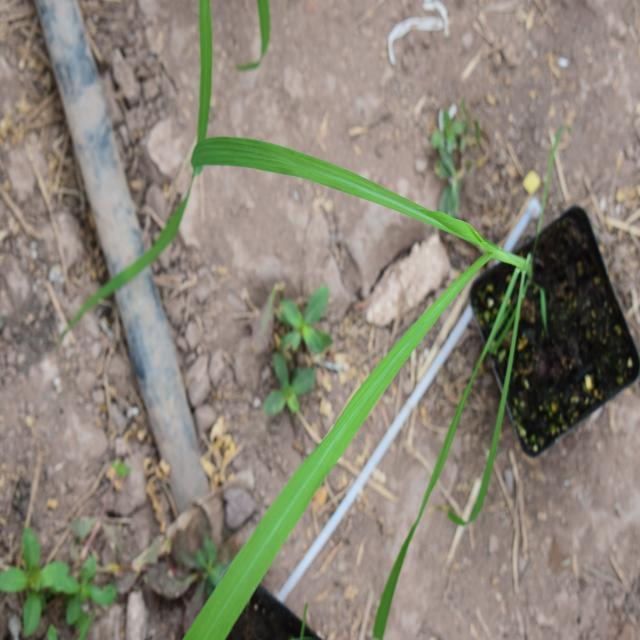barnyard_grass: (121, 122, 531, 624)
